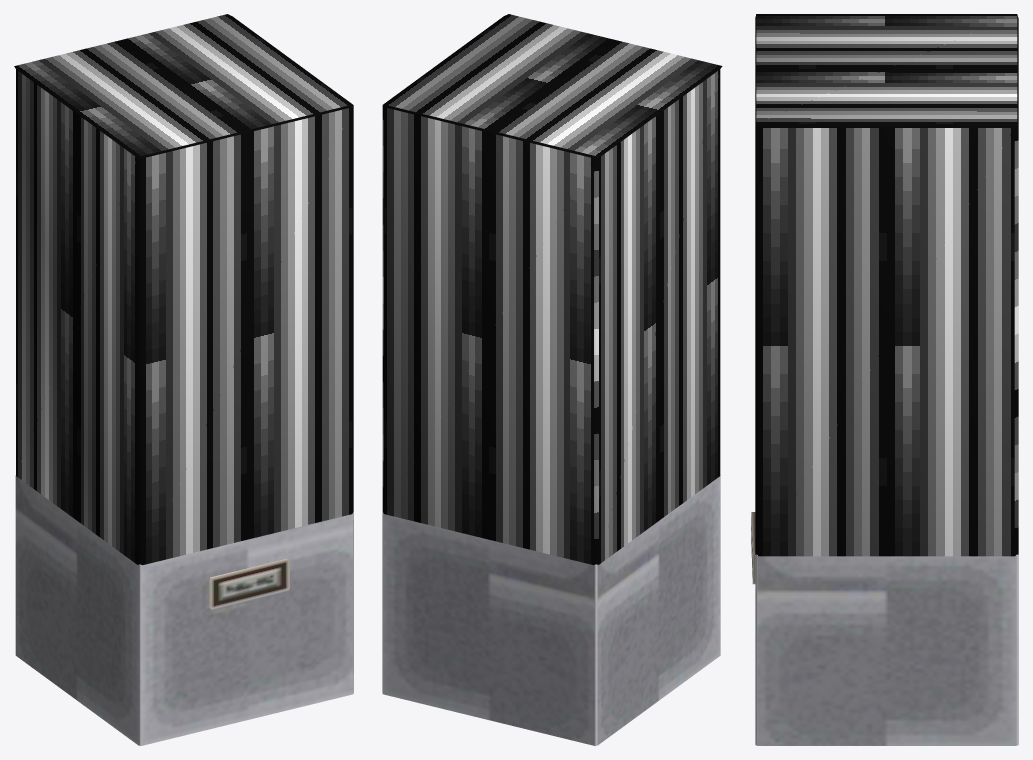
Rendered from rmk_mse_tableS02.dae.
3 views of the same model, side by side, from view 1: azimuth 30°, elevation 25°; view 2: azimuth 150°, elevation 25°; view 3: azimuth 270°, elevation 25° (orthographic). The views are drawn at different scales.
Parts seen in each view (by area): view 1: rmk_mse_tableS02; view 2: rmk_mse_tableS02; view 3: rmk_mse_tableS02.
Part boxes in pixels (x1,y1,x2,y2): rmk_mse_tableS02: [14, 14, 353, 745]; rmk_mse_tableS02: [382, 14, 722, 745]; rmk_mse_tableS02: [751, 14, 1018, 745].
Bounding box in the file's own units: 31.64 × 82 × 31.99.
Materials: 2 (2 with a texture image).
